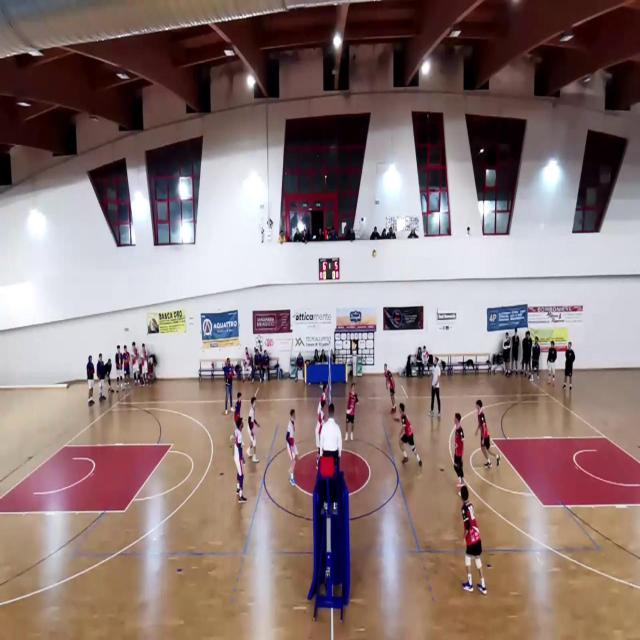volleyball: (372, 249, 378, 257)
